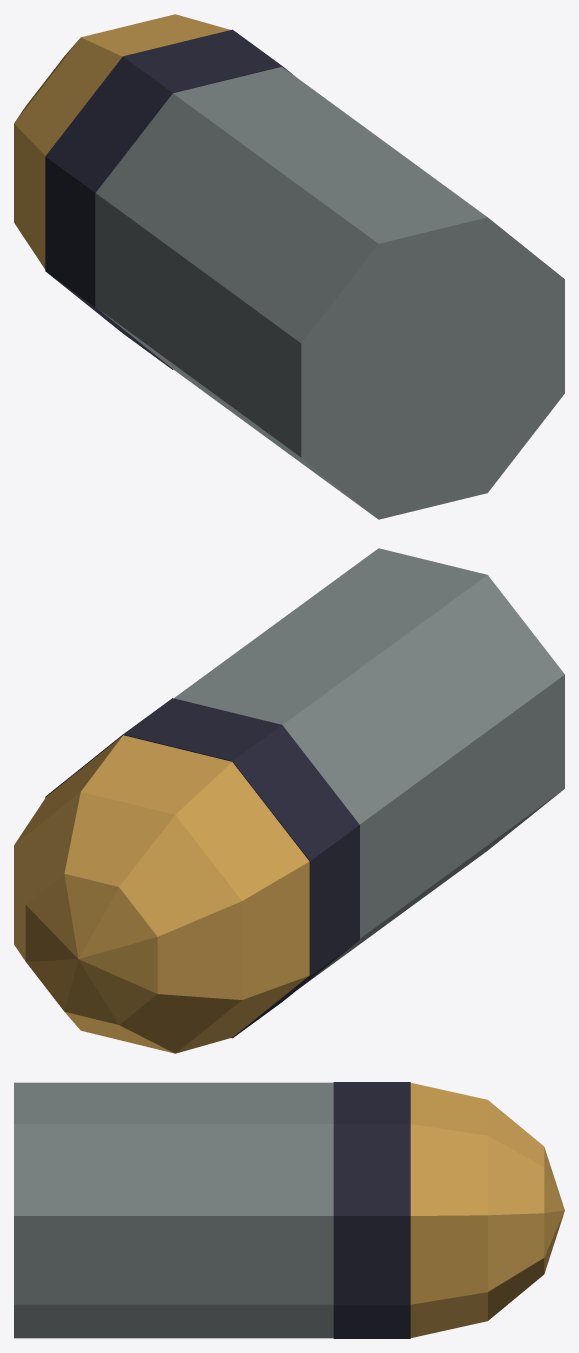
File: ce_ammo_grenade_dp_a.obj
3 renders of one model, top to bottom at view 1: azimuth 30°, elevation 25°; view 2: azimuth 150°, elevation 25°; view 3: azimuth 270°, elevation 25°, orthographic. The views are drawn at different scales.
Visible parts, largest first — view 1: ce_ammo_grenade_dp_a_0, ce_ammo_grenade_dp_a_1, ce_ammo_grenade_dp_a_2; view 2: ce_ammo_grenade_dp_a_0, ce_ammo_grenade_dp_a_3, ce_ammo_grenade_dp_a_2, ce_ammo_grenade_dp_a_1, ce_ammo_grenade_dp_a_4; view 3: ce_ammo_grenade_dp_a_0, ce_ammo_grenade_dp_a_1, ce_ammo_grenade_dp_a_2, ce_ammo_grenade_dp_a_3, ce_ammo_grenade_dp_a_4.
Part boxes in pixels (x1,y1,x2,y2): ce_ammo_grenade_dp_a_0: (95,66,564,519); ce_ammo_grenade_dp_a_1: (45,29,294,369); ce_ammo_grenade_dp_a_2: (14,14,230,269); ce_ammo_grenade_dp_a_0: (174,548,564,987); ce_ammo_grenade_dp_a_3: (14,792,242,1053); ce_ammo_grenade_dp_a_2: (14,735,309,1053); ce_ammo_grenade_dp_a_1: (45,698,359,1038); ce_ammo_grenade_dp_a_4: (25,873,157,1024); ce_ammo_grenade_dp_a_0: (14,1082,333,1338); ce_ammo_grenade_dp_a_1: (333,1082,410,1338); ce_ammo_grenade_dp_a_2: (410,1083,487,1337); ce_ammo_grenade_dp_a_3: (488,1100,544,1320); ce_ammo_grenade_dp_a_4: (544,1147,564,1273).
Bounding box in the file's own units: 0.2414 × 0.2414 × 0.56.
